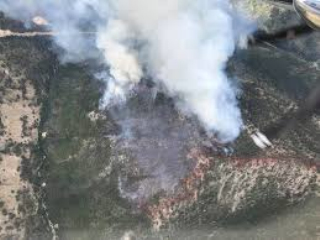smoke: (127, 5, 252, 153), (79, 22, 148, 119)
